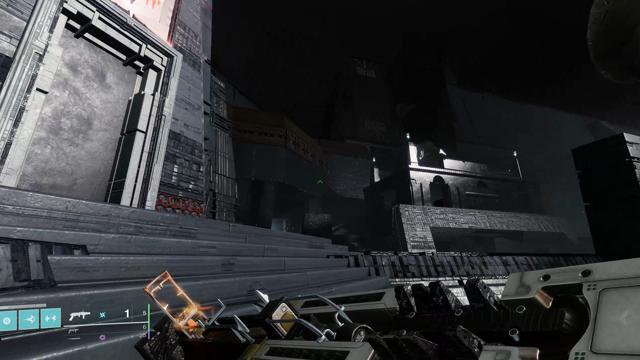give: (111, 0, 164, 23)
